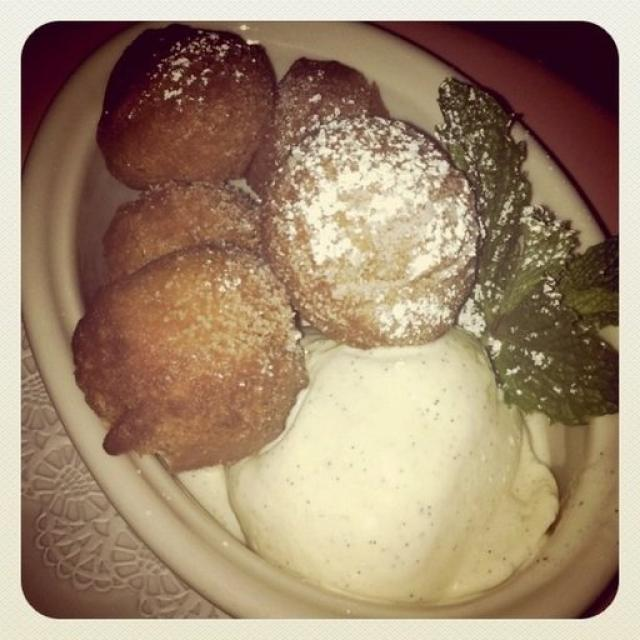Donuts: (94, 25, 495, 457)
